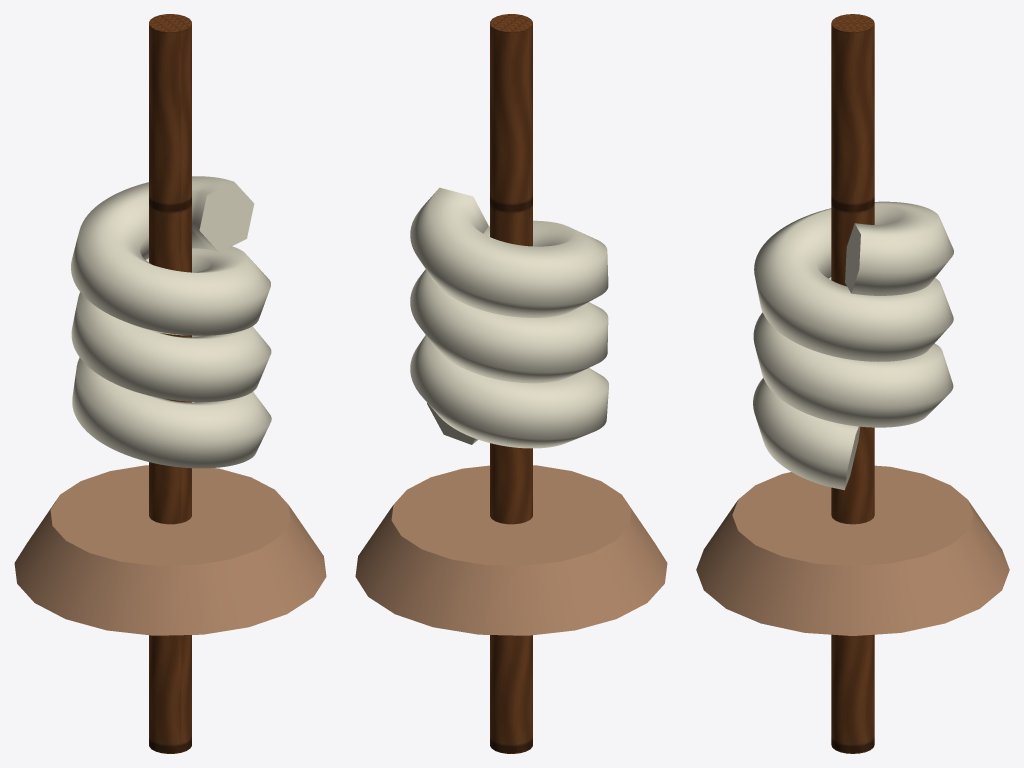
The model's file is primitive-crafting-workshop-drop-spindle-6f40d276__21550.glb.
The picture shows the model from 3 angles, left to right: view 1: azimuth 30°, elevation 25°; view 2: azimuth 150°, elevation 25°; view 3: azimuth 270°, elevation 25°; orthographic projection.
Parts seen in each view (by area): view 1: drop-spindle; view 2: drop-spindle; view 3: drop-spindle.
Boxes of the visible parts, left/top/right/bottom form: drop-spindle: left=14, top=14, right=326, bottom=753; drop-spindle: left=355, top=14, right=667, bottom=753; drop-spindle: left=696, top=14, right=1009, bottom=753.
Bounding box in the file's own units: 0.13 × 0.33 × 0.13.
3 materials, 1 textured.
